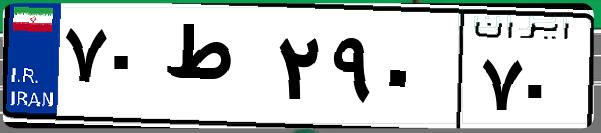0: (385, 28, 445, 110), (525, 38, 570, 115), (110, 28, 158, 98)
2: (270, 28, 330, 110)
7: (57, 26, 110, 100), (475, 38, 525, 113)
9: (330, 28, 385, 110)
ط: (158, 20, 270, 120)
